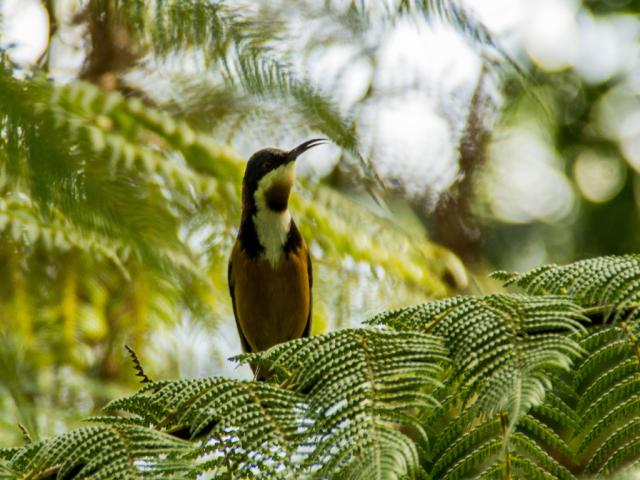Bird: (223, 128, 332, 374)
